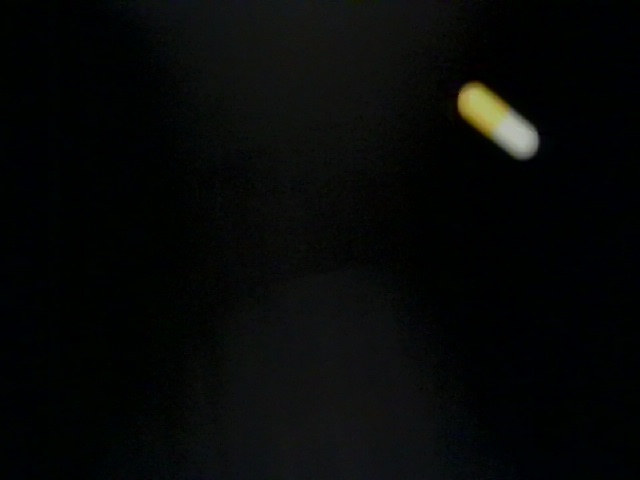YHLJ: (243, 287, 499, 400)
